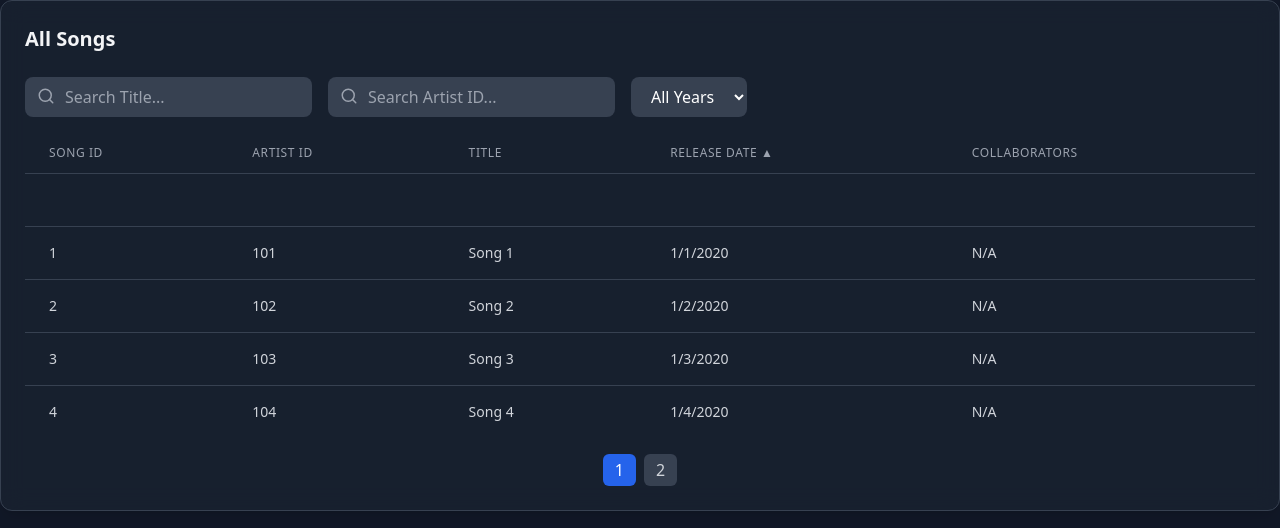
Test: AllSongs Component › paginates songs when there are more than one page
Check: the text "Song 1" is shown, box [445, 226, 646, 280]
Check: the button "1" is shown, box [603, 454, 636, 486]
# Click page 2 and verify that songs from the second page are displayed
Click the button "2" at (661, 470), box [644, 454, 677, 486]
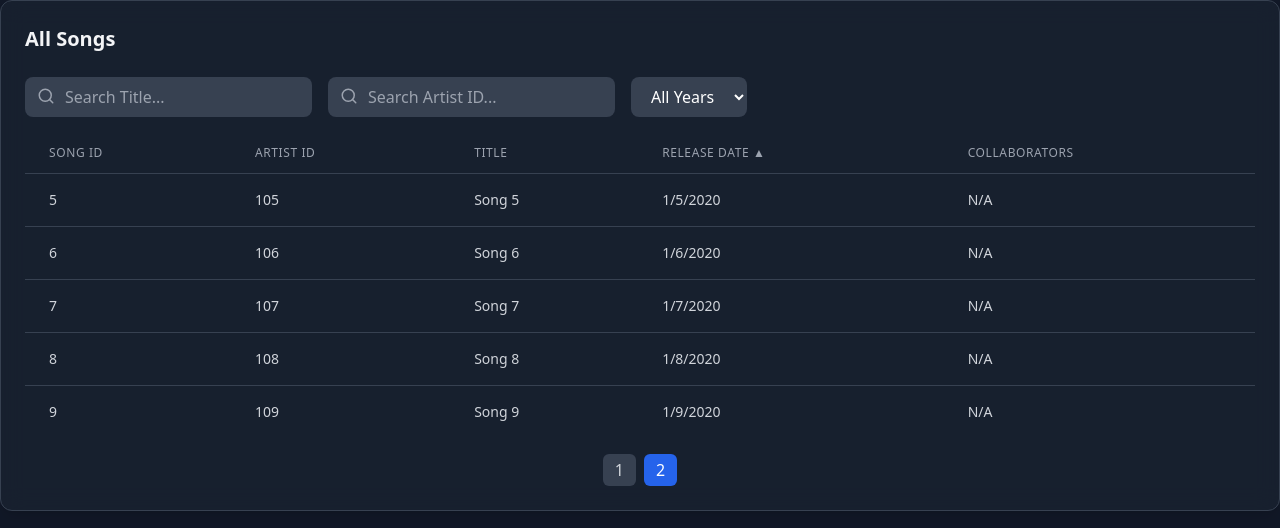
Check: the text "Song 6" is shown, box [450, 226, 638, 280]
Check: the text "Song 1" is gone
